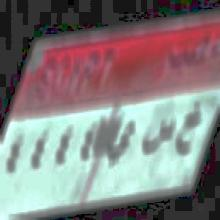4: (3, 132, 24, 180), (30, 128, 50, 176), (54, 122, 72, 173), (81, 115, 95, 165)
khaa: (177, 97, 203, 161)
seen: (142, 113, 175, 159)
yaa: (105, 122, 136, 166)
